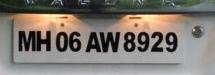0: (55, 30, 68, 53)
2: (149, 30, 162, 52)
6: (67, 29, 83, 52)
8: (121, 30, 135, 51)
9: (135, 29, 150, 52), (163, 30, 178, 52)
A: (84, 29, 101, 52)
H: (34, 28, 53, 52)
M: (16, 28, 35, 51)
W: (97, 30, 120, 52)
